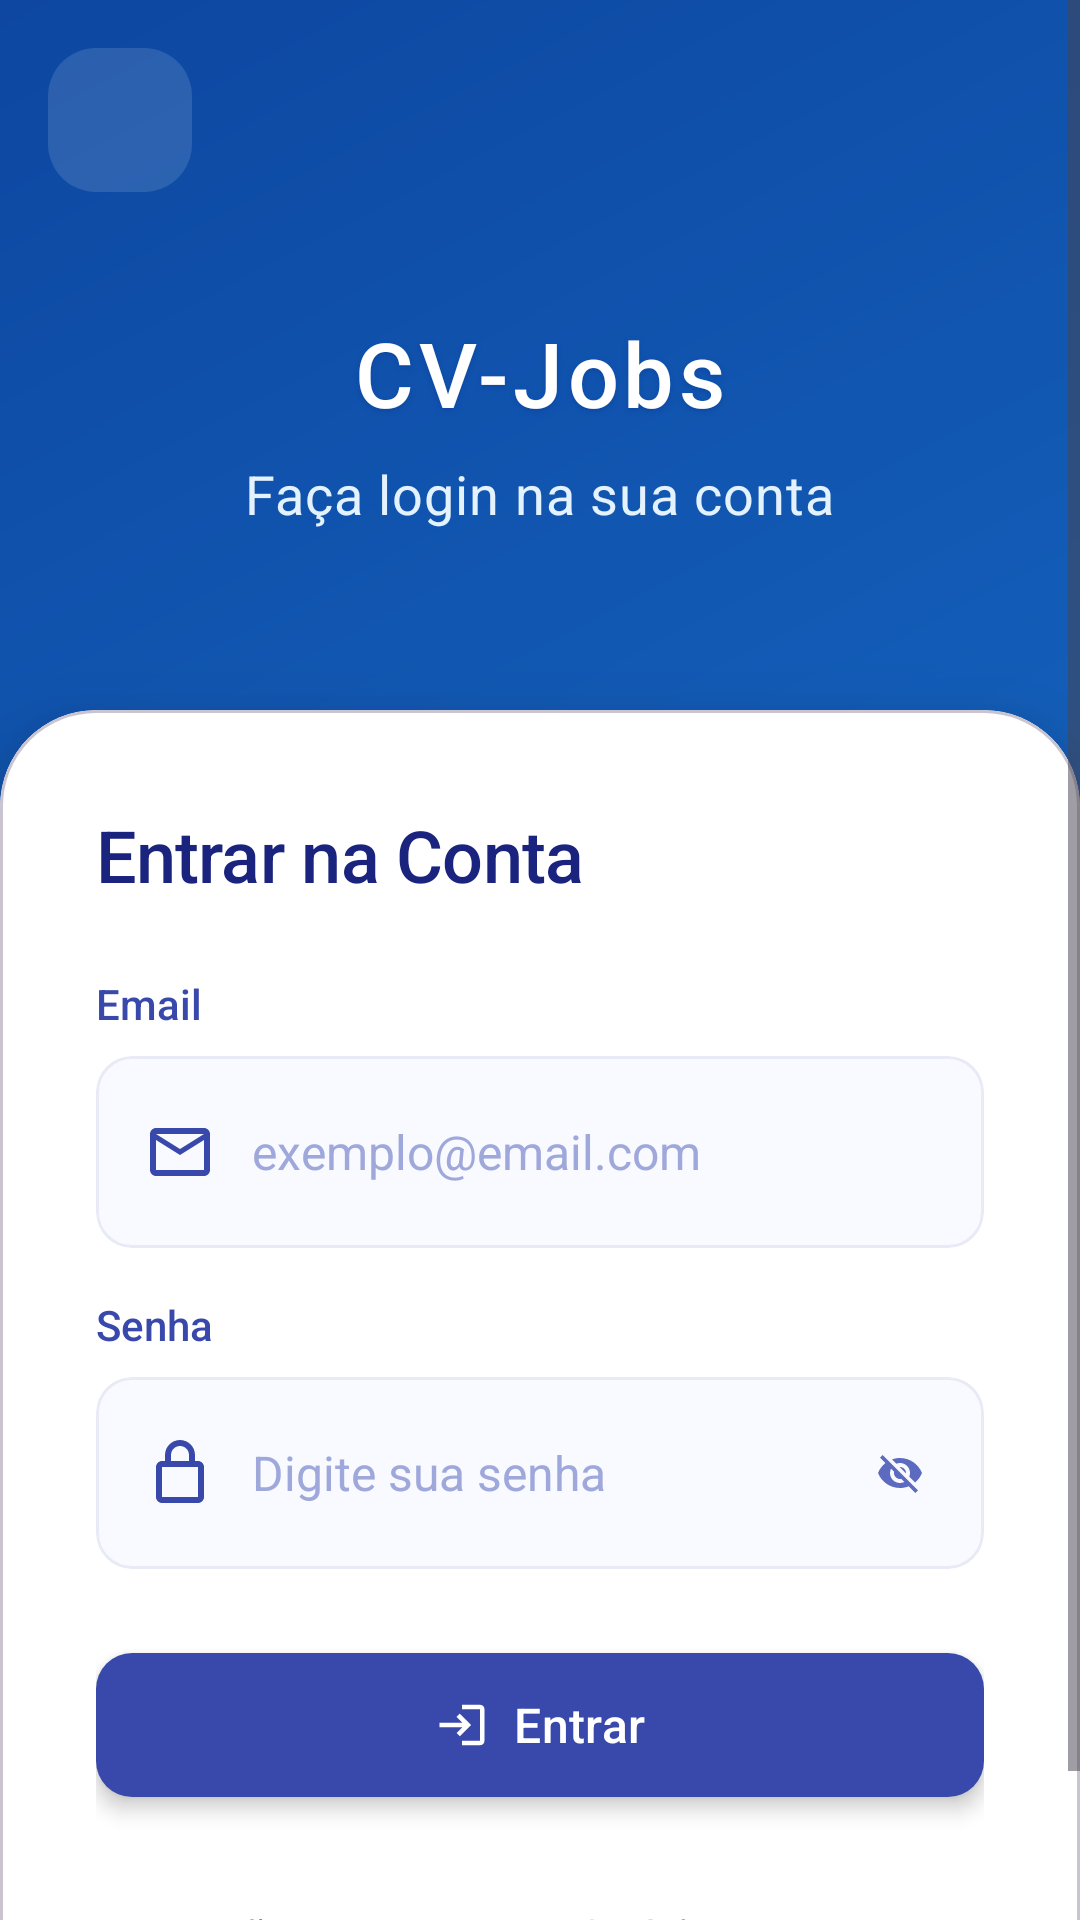

Screen size 1080*1920. Icon name, then its center in pixels as [x,y]:
lock: [180,1471]
visibility off: [900,1474]
